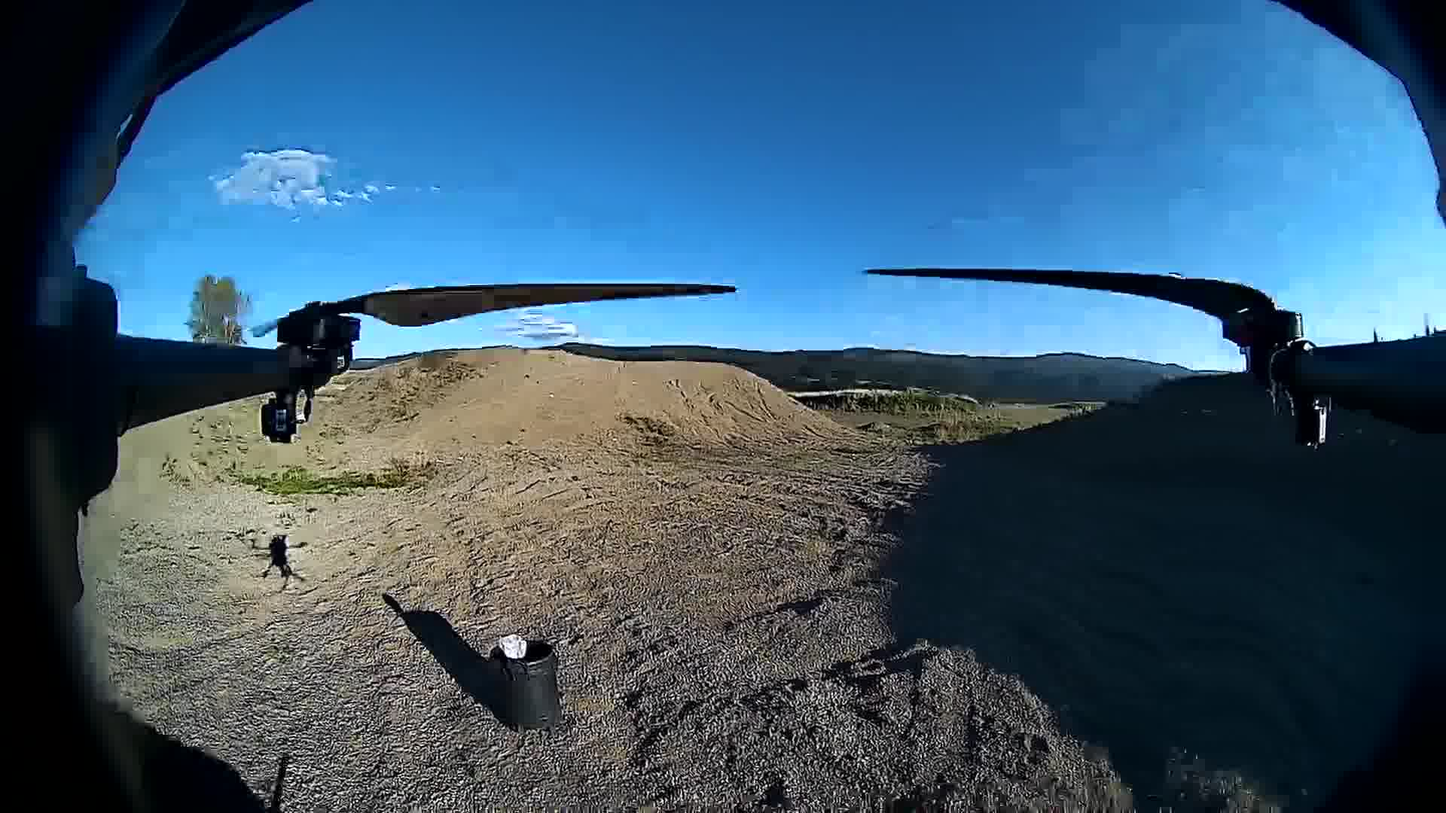Target: (498, 632, 528, 661)
